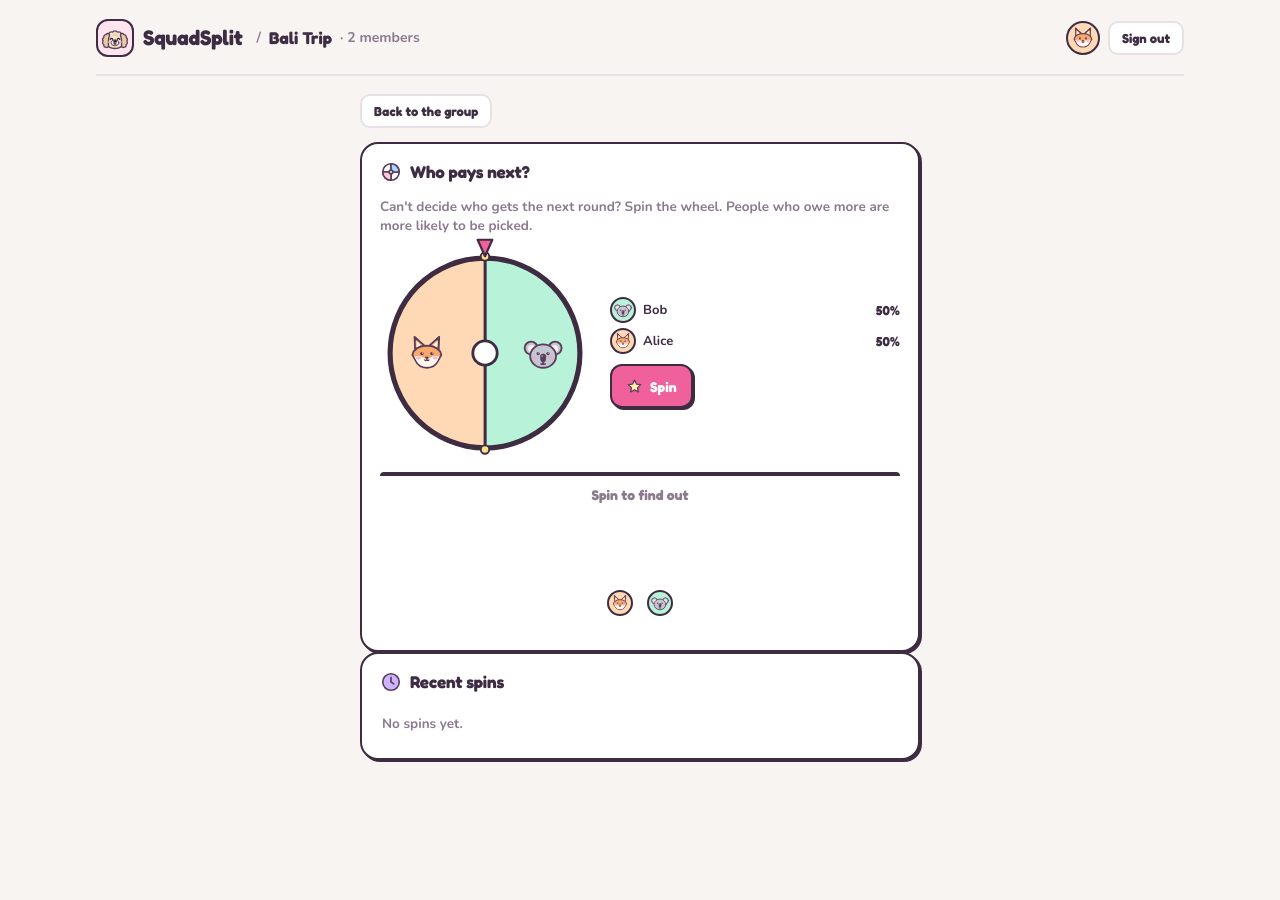
Test: Wheel › says "You pay next" when you are picked, and spins on from where it stopped
Later steps or results of the test are not shown.
Click the button "Spin": (651, 386) [610, 364, 693, 408]
Wait 3700 ms
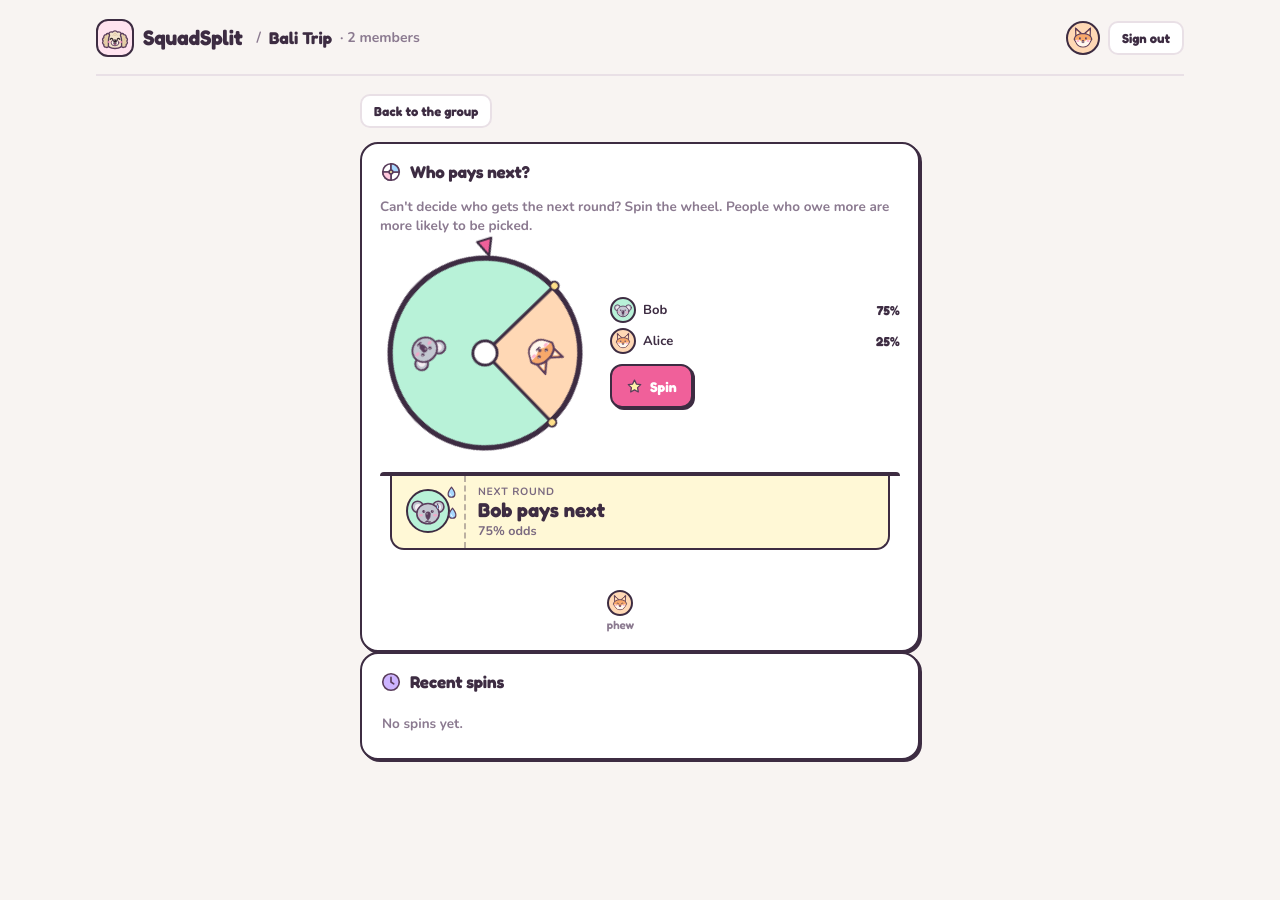
Click the button "Spin": (651, 386) [610, 364, 693, 408]
Wait 3700 ms
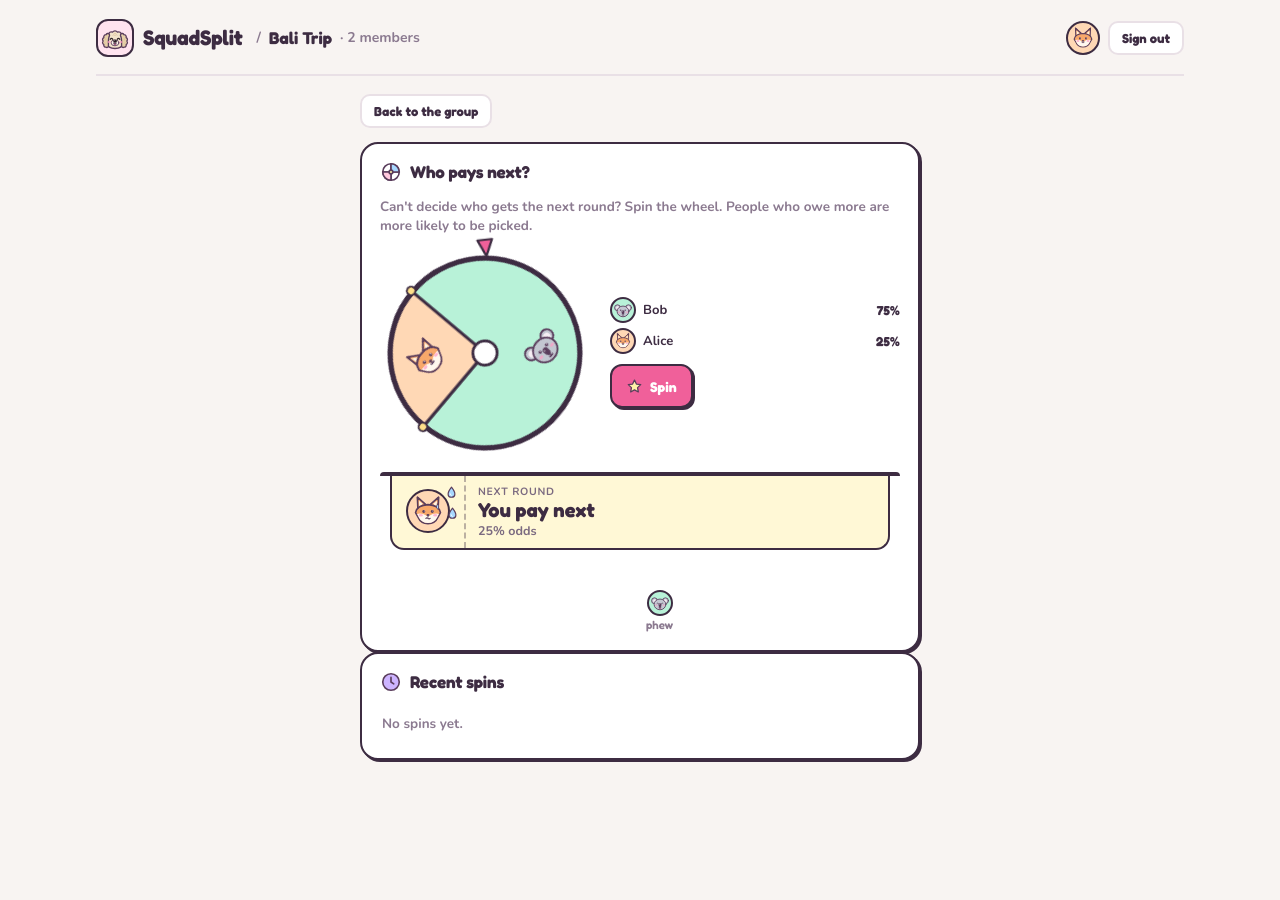
Result: the text "You pay next" is shown at [478, 499, 595, 522]
